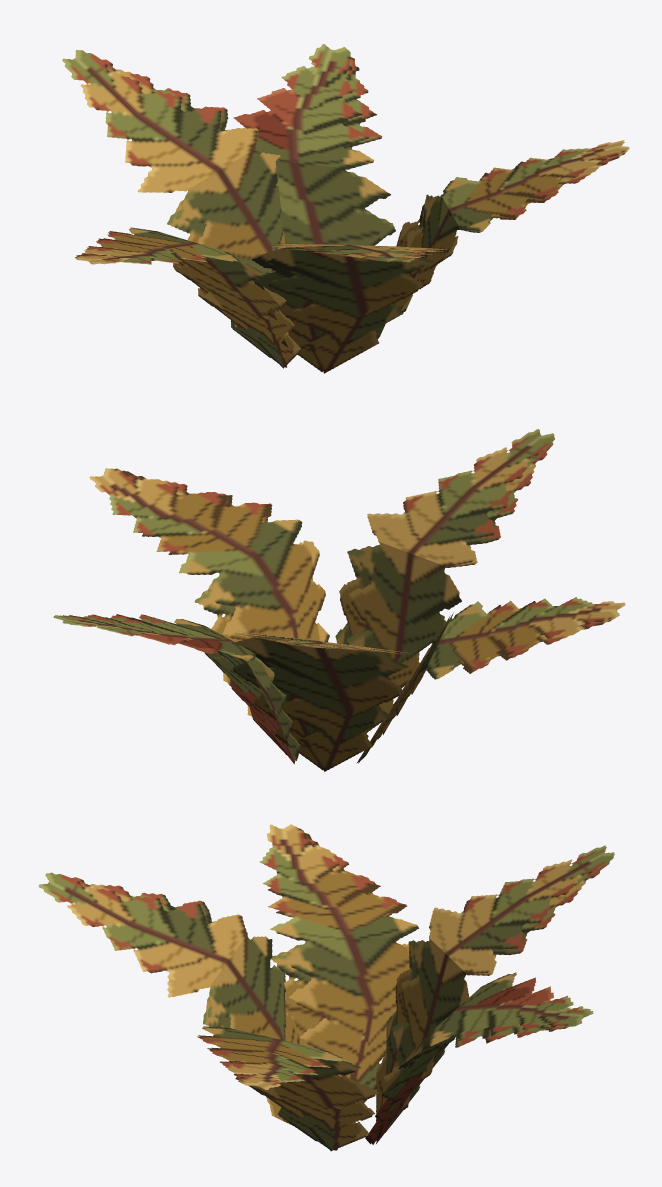
Rendered from SM_VG01_FernLow.fbx.
3 renders of one model, top to bottom at view 1: azimuth 30°, elevation 25°; view 2: azimuth 150°, elevation 25°; view 3: azimuth 270°, elevation 25°, orthographic.
Parts seen in each view (by area): view 1: VG01_Fronds; view 2: VG01_Fronds; view 3: VG01_Fronds.
Part boxes in pixels (box(x1,y1,x2,y2)): VG01_Fronds: box(62, 44, 629, 373); VG01_Fronds: box(53, 429, 625, 771); VG01_Fronds: box(38, 824, 614, 1151).
Bounding box in the file's own units: 0.6155 × 0.2554 × 0.5921.
